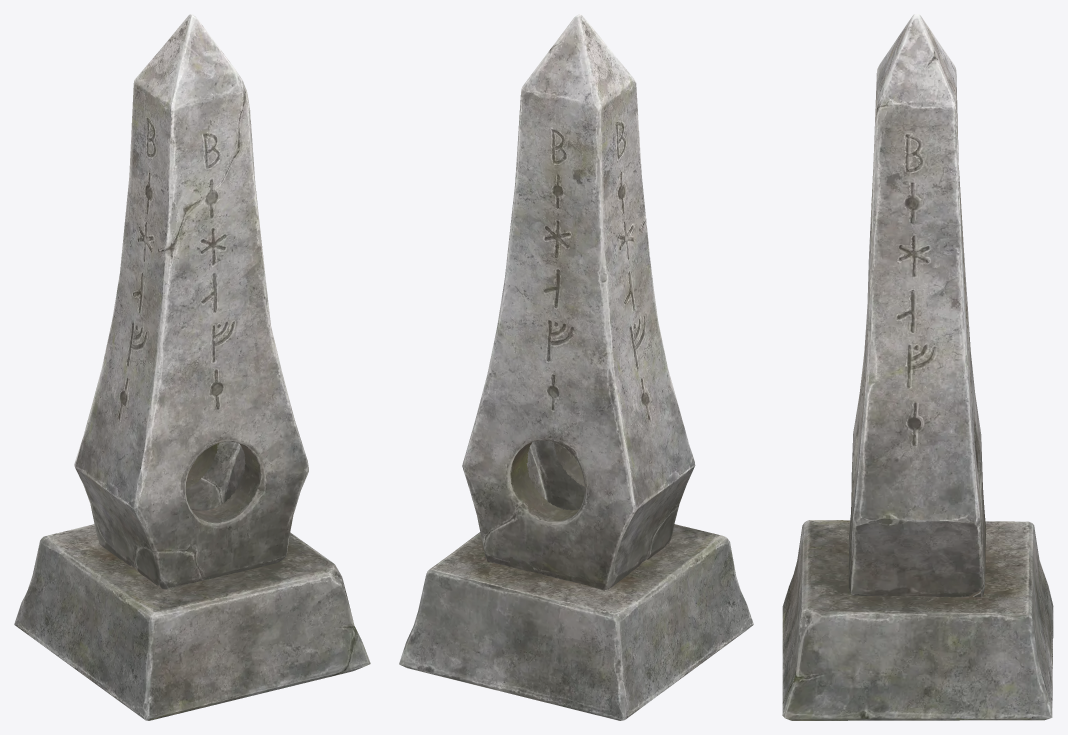
3 renders of one model, left to right at view 1: azimuth 30°, elevation 25°; view 2: azimuth 150°, elevation 25°; view 3: azimuth 270°, elevation 25°, orthographic. The views are drawn at different scales.
Visible parts, largest first — view 1: SM_Building_Protection_Totem_LOD0; view 2: SM_Building_Protection_Totem_LOD0; view 3: SM_Building_Protection_Totem_LOD0.
Part boxes in pixels (<box>): SM_Building_Protection_Totem_LOD0: <box>14,14,370,720</box>; SM_Building_Protection_Totem_LOD0: <box>399,14,753,720</box>; SM_Building_Protection_Totem_LOD0: <box>782,14,1053,720</box>.
Bounding box in the file's own units: 0.6847 × 1.83 × 0.691.
1 material, 1 textured.
